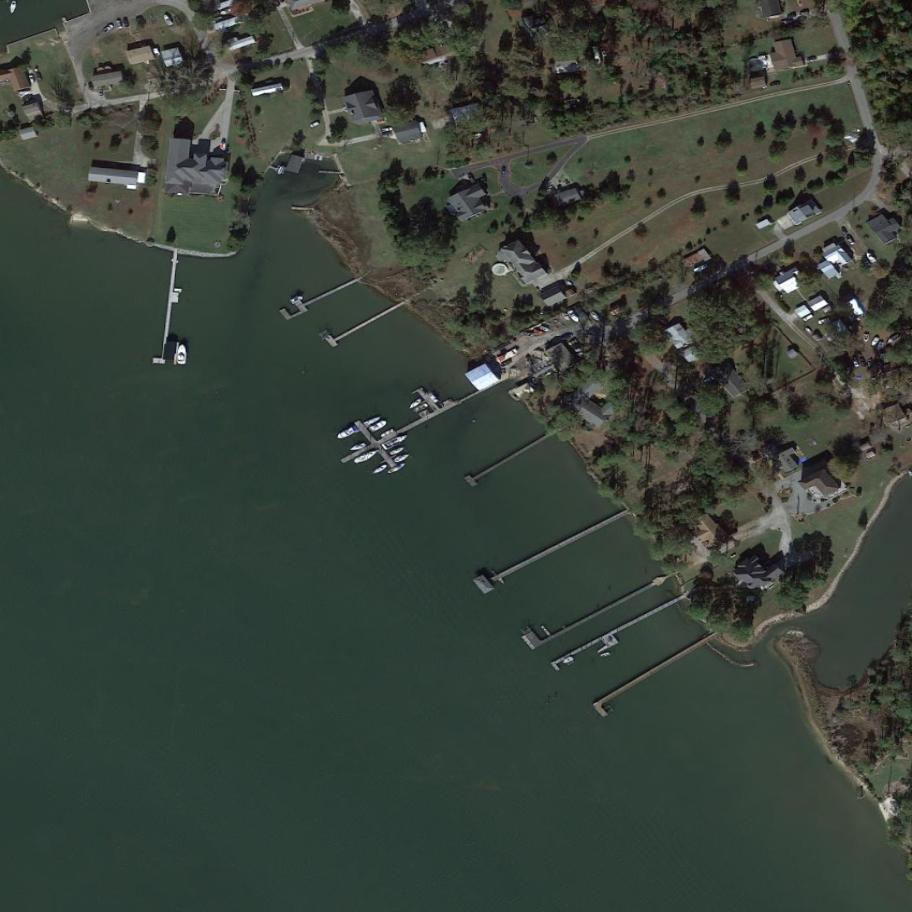large-vehicle: (801, 312, 815, 324), (309, 120, 323, 130)
ship: (381, 429, 410, 452), (352, 447, 380, 469), (334, 424, 363, 444), (368, 416, 391, 436), (386, 460, 409, 477), (369, 459, 393, 475), (406, 395, 426, 412), (176, 344, 190, 366), (348, 439, 369, 453), (565, 307, 582, 324), (863, 248, 879, 266), (388, 443, 407, 458), (364, 413, 382, 427), (412, 401, 430, 415), (886, 333, 903, 347), (161, 12, 175, 29), (394, 452, 411, 465), (288, 293, 305, 306), (427, 390, 441, 405), (560, 654, 576, 667), (589, 310, 603, 324), (869, 335, 882, 350), (538, 322, 553, 334), (9, 0, 19, 14), (561, 312, 572, 323), (862, 332, 869, 343)
small-vehicle: (99, 22, 115, 37), (844, 233, 857, 248), (692, 263, 708, 275), (817, 317, 833, 328), (565, 337, 579, 349), (572, 344, 587, 355), (850, 355, 860, 369), (151, 46, 162, 58), (500, 164, 509, 178), (121, 16, 131, 28), (115, 19, 124, 31), (381, 126, 394, 134), (28, 73, 36, 86), (35, 71, 43, 83)
